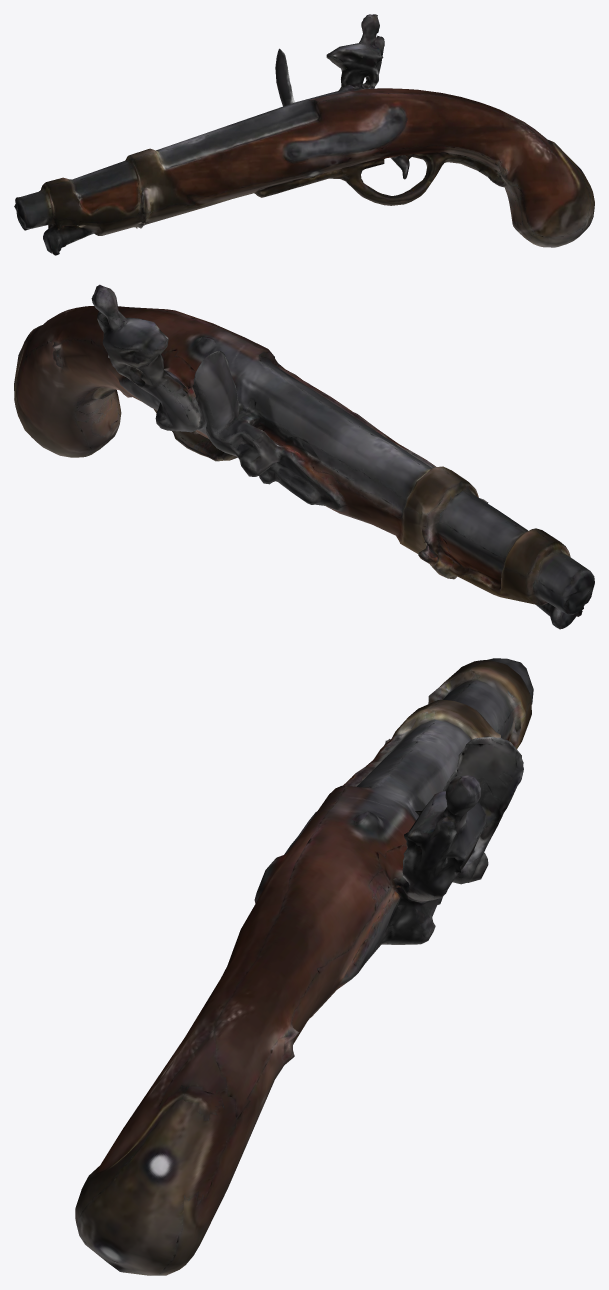
Rendered from pistol.glb.
3 renders of one model, top to bottom at view 1: azimuth 30°, elevation 25°; view 2: azimuth 150°, elevation 25°; view 3: azimuth 270°, elevation 25°, orthographic. The views are drawn at different scales.
Parts seen in each view (by area): view 1: Object_2; view 2: Object_2; view 3: Object_2.
Part boxes in pixels (bbox=[...]): Object_2: bbox=[14, 14, 594, 255]; Object_2: bbox=[14, 284, 594, 629]; Object_2: bbox=[75, 658, 533, 1275].
Bounding box in the file's own units: 339 × 132 × 138.
Materials: 1 (1 with a texture image).
